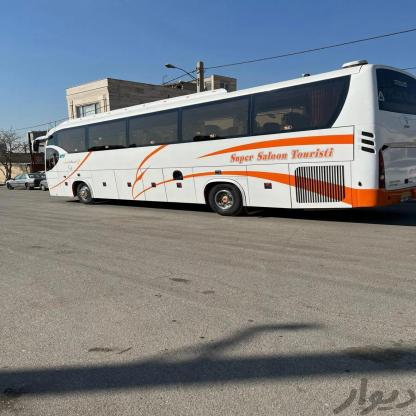Bus: (39, 64, 416, 232)
Car: (5, 171, 42, 200)
